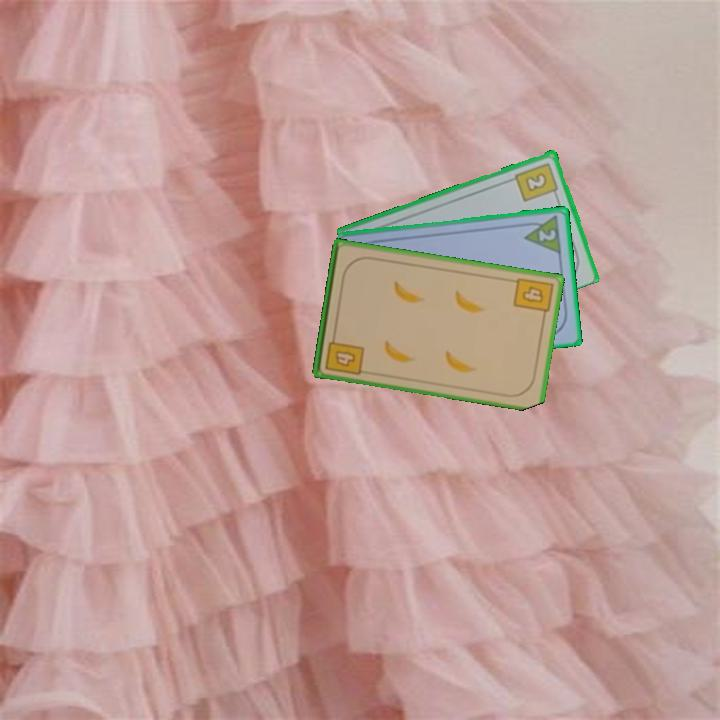2b: (512, 159, 561, 204)
2p: (520, 211, 565, 256)
4b: (322, 329, 367, 378), (510, 274, 556, 321)
